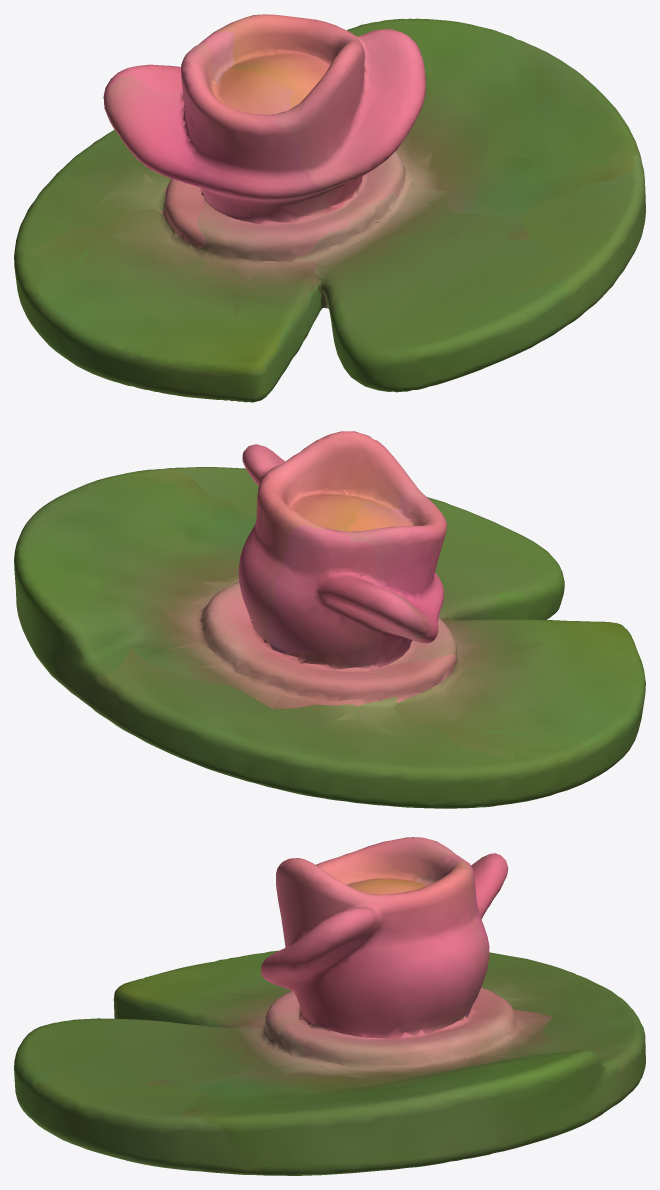
Rendered from nenufar_flor.glb.
3 views of the same model, one above another, from view 1: azimuth 30°, elevation 25°; view 2: azimuth 150°, elevation 25°; view 3: azimuth 270°, elevation 25° (orthographic). The views are drawn at different scales.
Visible parts, largest first — view 1: nenufar_flor_malla; view 2: nenufar_flor_malla; view 3: nenufar_flor_malla.
Part boxes in pixels (bbox=[...]): nenufar_flor_malla: bbox=[14, 14, 645, 402]; nenufar_flor_malla: bbox=[14, 431, 645, 808]; nenufar_flor_malla: bbox=[14, 837, 645, 1175].
Size of the model in its own units: 0.1063 by 0.0476 by 0.1017.
1 material, 1 textured.
